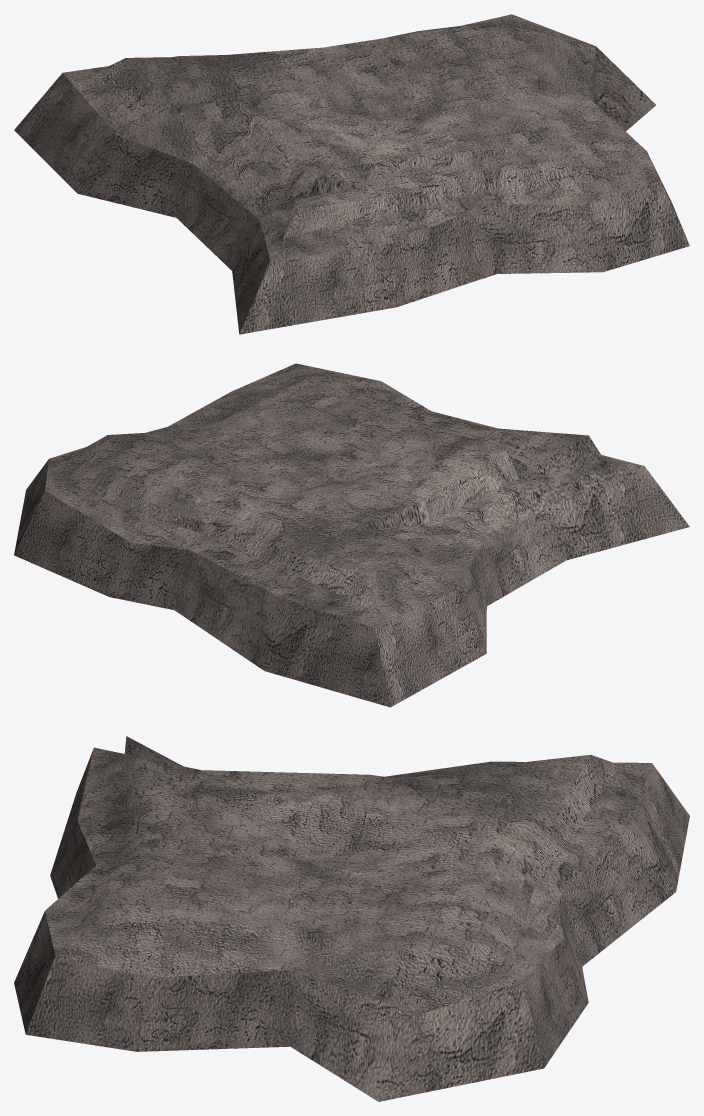
The model's file is FlatRock5.FBX.
3 renders of one model, top to bottom at view 1: azimuth 30°, elevation 25°; view 2: azimuth 150°, elevation 25°; view 3: azimuth 270°, elevation 25°, orthographic. The views are drawn at different scales.
Visible parts, largest first — view 1: FlatRock5; view 2: FlatRock5; view 3: FlatRock5.
Boxes of the visible parts, x1,y1,x2,y2 form: FlatRock5: (14,14,689,334); FlatRock5: (14,363,689,707); FlatRock5: (14,736,689,1101).
Bounding box in the file's own units: 97.57 × 15.22 × 90.27.
1 material, 1 textured.
